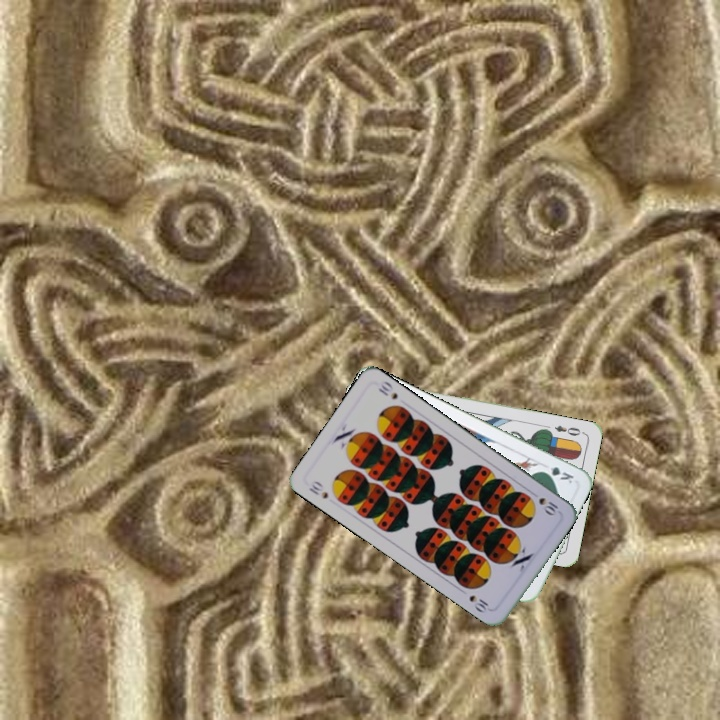EO: (550, 421, 586, 438)
GK: (537, 461, 576, 486)
S10: (527, 487, 561, 518), (304, 477, 331, 501)
